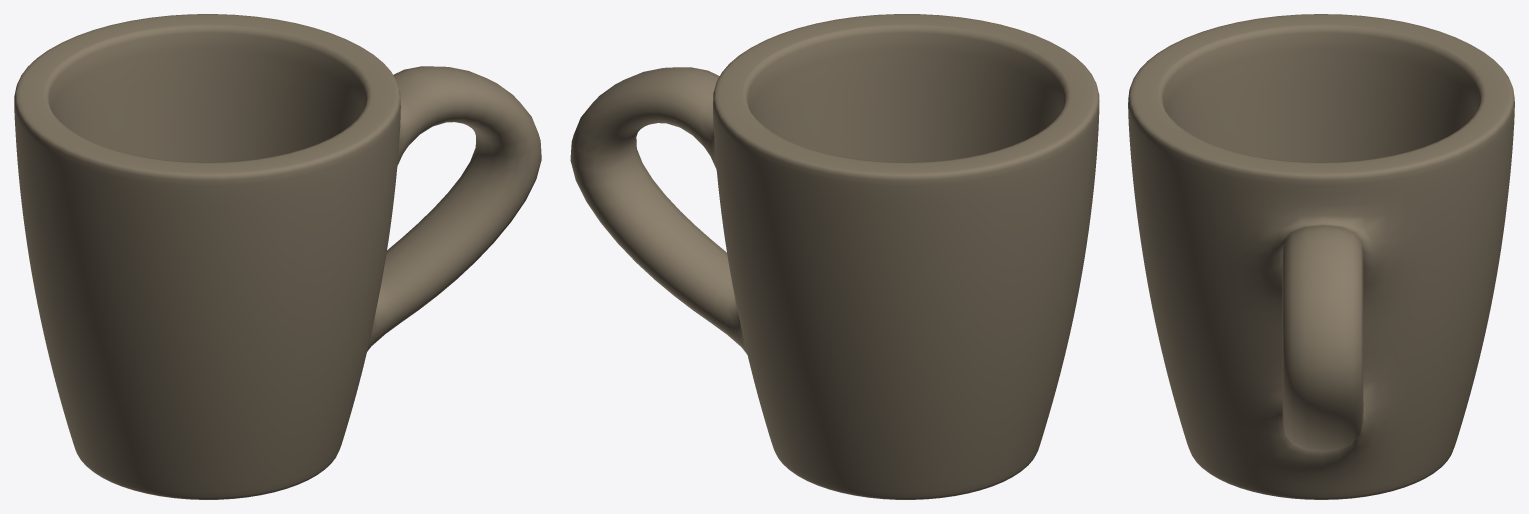
Rendered from Cup_05.fbx.
3 renders of one model, left to right at view 1: azimuth 30°, elevation 25°; view 2: azimuth 150°, elevation 25°; view 3: azimuth 270°, elevation 25°, orthographic.
Visible parts, largest first — view 1: Cup; view 2: Cup; view 3: Cup.
Part boxes in pixels (left/top/right/bottom): Cup: left=14, top=14, right=541, bottom=499; Cup: left=570, top=14, right=1099, bottom=499; Cup: left=1128, top=14, right=1514, bottom=499.
Bounding box in the file's own units: 103 × 69.88 × 69.94.
